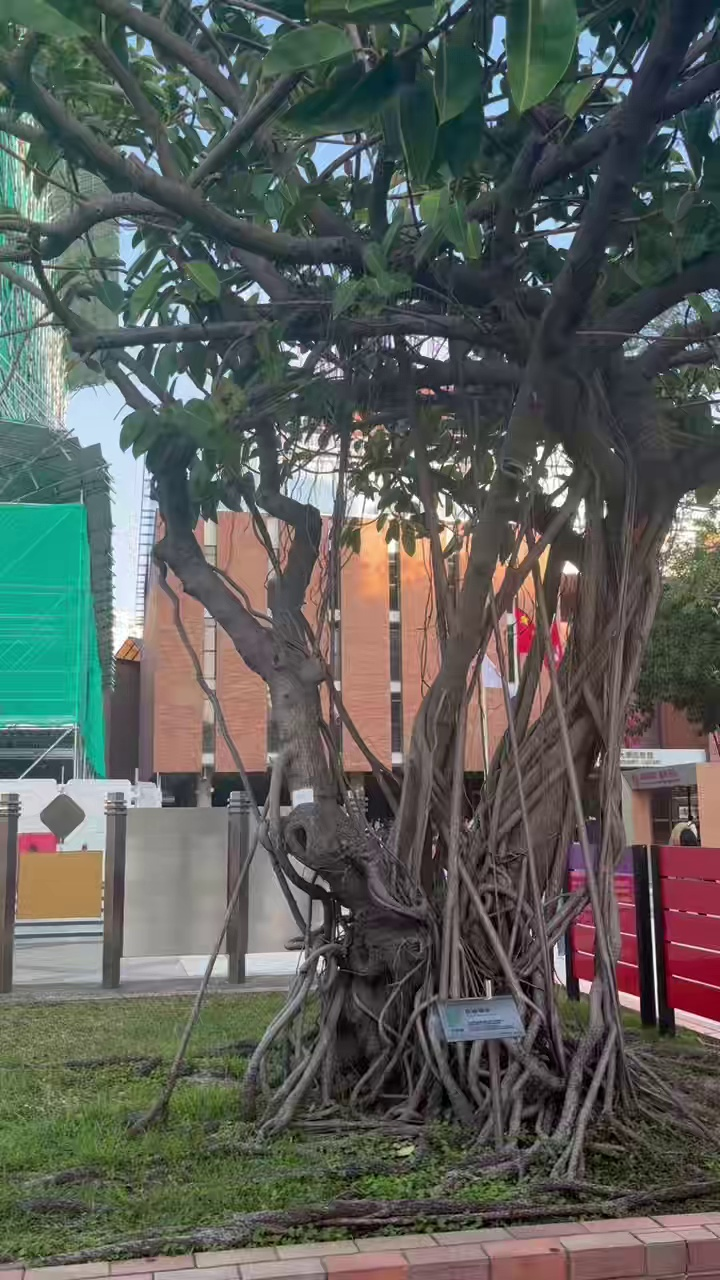Ficus elastica: (0, 0, 719, 1177)
